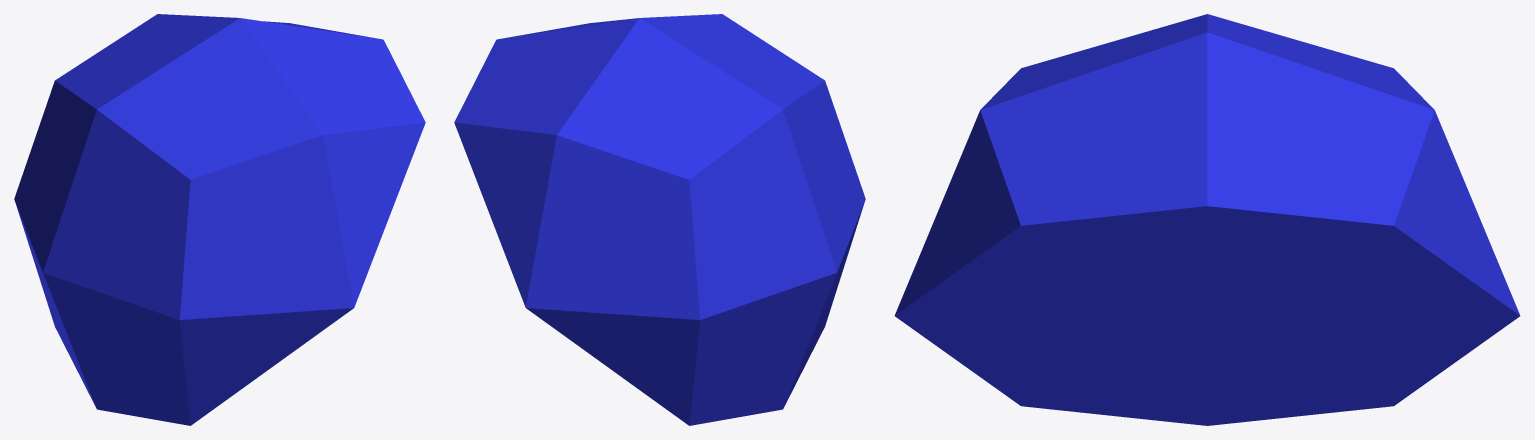
File: shoulder_test_right.glb
3 views of the same model, side by side, from view 1: azimuth 30°, elevation 25°; view 2: azimuth 150°, elevation 25°; view 3: azimuth 270°, elevation 25° (orthographic). The views are drawn at different scales.
Visible parts, largest first — view 1: right_shoulder; view 2: right_shoulder; view 3: right_shoulder.
Part boxes in pixels (<box>): right_shoulder: <box>14,14,425,425</box>; right_shoulder: <box>454,14,865,425</box>; right_shoulder: <box>894,14,1520,425</box>.
Bounding box in the file's own units: 1.45 × 1.45 × 1.68.
